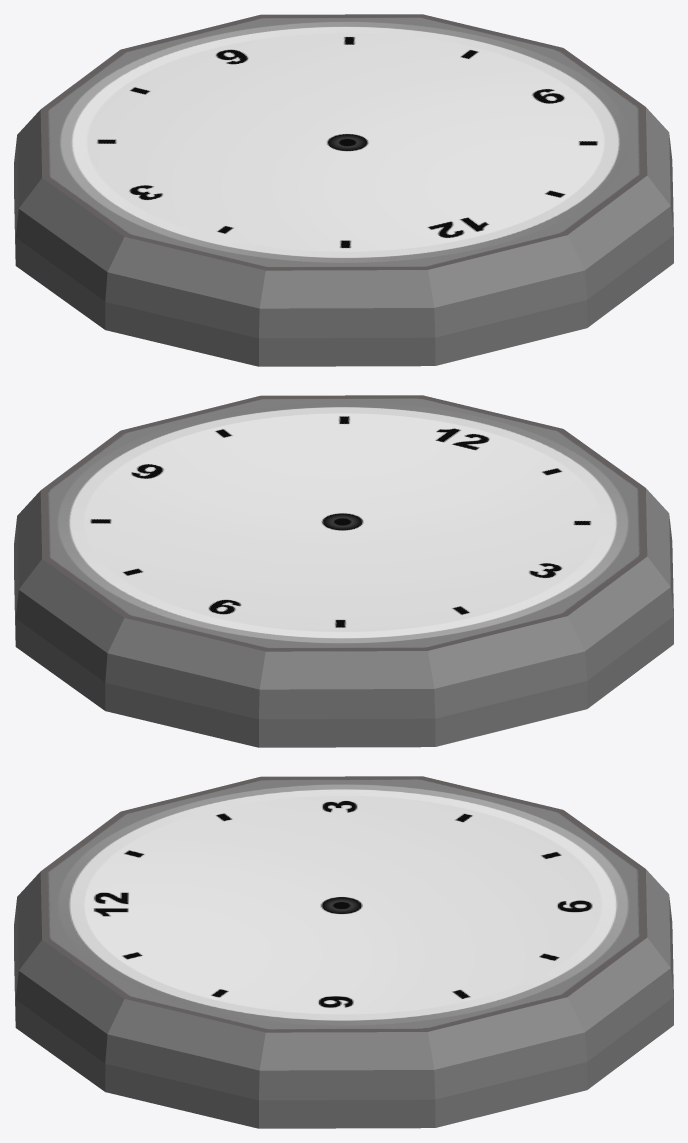
The model's file is Clock.FBX.
The picture shows the model from 3 angles, top to bottom: view 1: azimuth 30°, elevation 25°; view 2: azimuth 150°, elevation 25°; view 3: azimuth 270°, elevation 25°; orthographic projection.
Parts seen in each view (by area): view 1: Cylinder001; view 2: Cylinder001; view 3: Cylinder001.
Boxes of the visible parts, left/top/right/bottom form: Cylinder001: left=14, top=14, right=673, bottom=366; Cylinder001: left=14, top=395, right=673, bottom=747; Cylinder001: left=14, top=776, right=673, bottom=1128.
Bounding box in the file's own units: 111 × 15.71 × 111.
